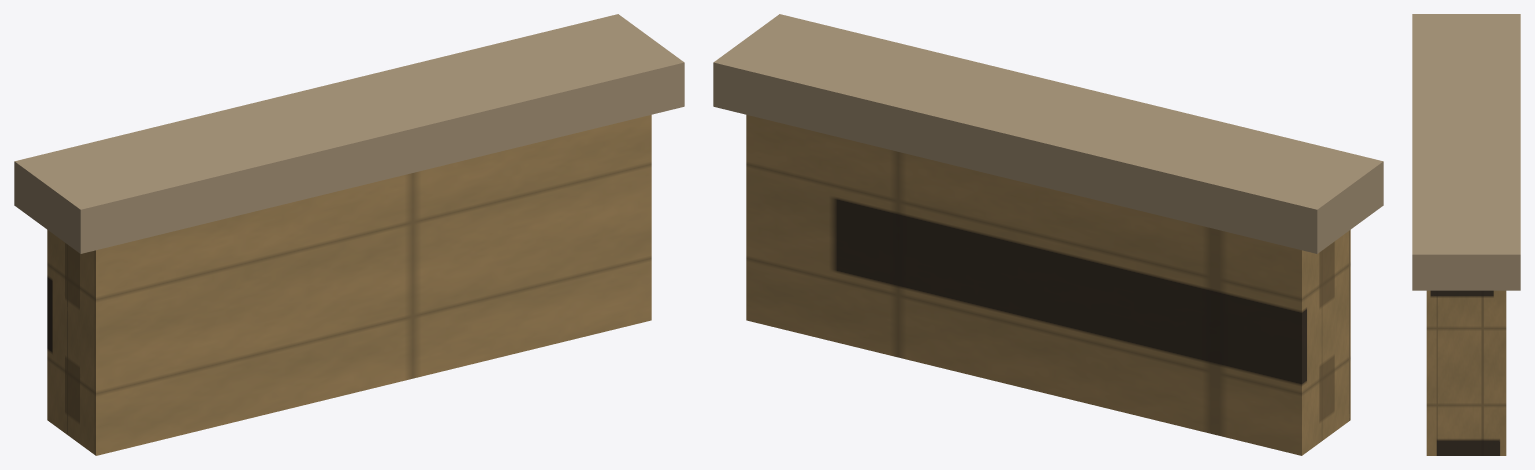
Rendered from city-module-wall-lod1.glb.
3 views of the same model, side by side, from view 1: azimuth 30°, elevation 25°; view 2: azimuth 150°, elevation 25°; view 3: azimuth 270°, elevation 25° (orthographic). The views are drawn at different scales.
Visible parts, largest first — view 1: module_wall_facade, module_wall_top_walkway; view 2: module_wall_facade, module_wall_top_walkway; view 3: module_wall_top_walkway, module_wall_facade.
Boxes of the visible parts, x1,y1,x2,y2 form: module_wall_facade: (47,115,651,455); module_wall_top_walkway: (14,14,684,253); module_wall_facade: (746,115,1350,455); module_wall_top_walkway: (713,14,1383,253); module_wall_top_walkway: (1412,14,1520,290); module_wall_facade: (1426,290,1506,455).
Bounding box in the file's own units: 0.5 × 0.2045 × 0.095.
Materials: 2 (1 with a texture image).
